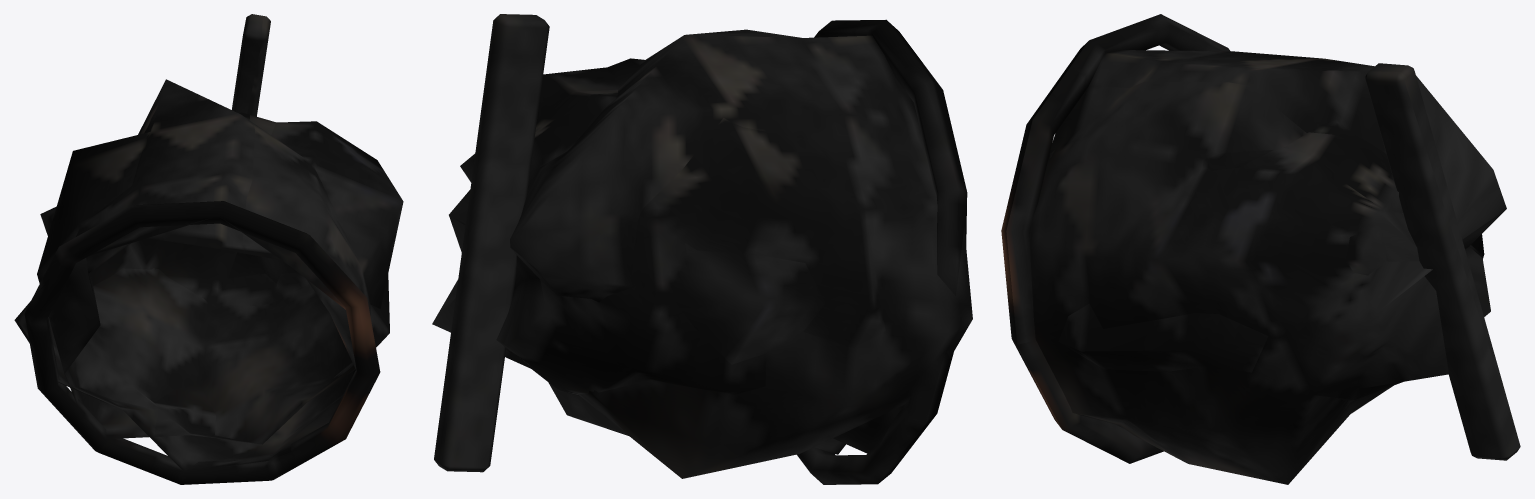
The model's file is item_rusted_helm.glb.
3 renders of one model, left to right at view 1: azimuth 30°, elevation 25°; view 2: azimuth 150°, elevation 25°; view 3: azimuth 270°, elevation 25°, orthographic. The views are drawn at different scales.
Parts seen in each view (by area): view 1: item_rusted_helm; view 2: item_rusted_helm; view 3: item_rusted_helm.
Boxes of the visible parts, box(x1,y1,x2,y2) form: item_rusted_helm: box(14, 14, 403, 484); item_rusted_helm: box(432, 14, 972, 484); item_rusted_helm: box(1001, 14, 1520, 484).
Bounding box in the file's own units: 0.3923 × 0.384 × 0.3879.
Materials: 1 (1 with a texture image).
